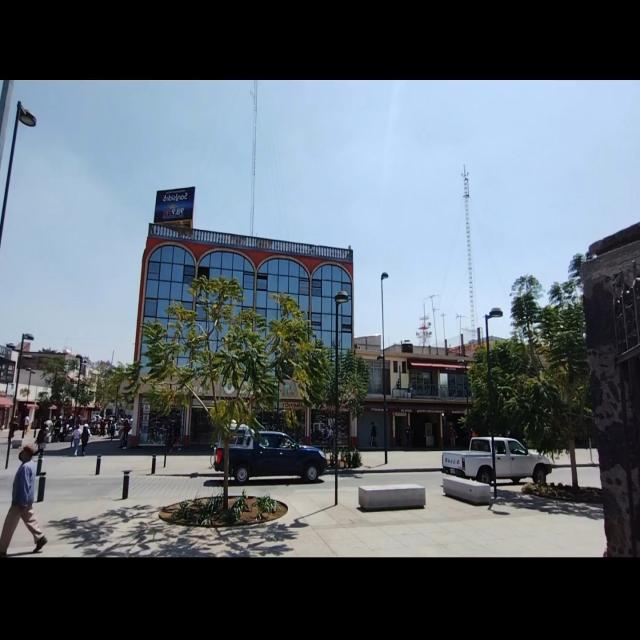adult: (0, 445, 48, 556), (73, 422, 92, 457)
